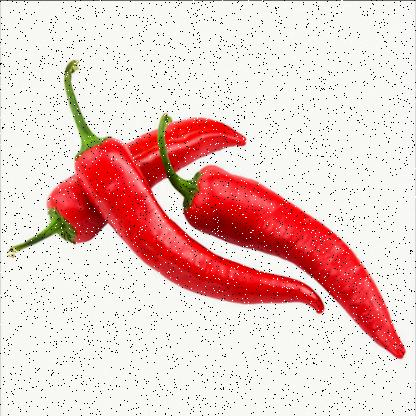chili: (26, 61, 406, 382)
